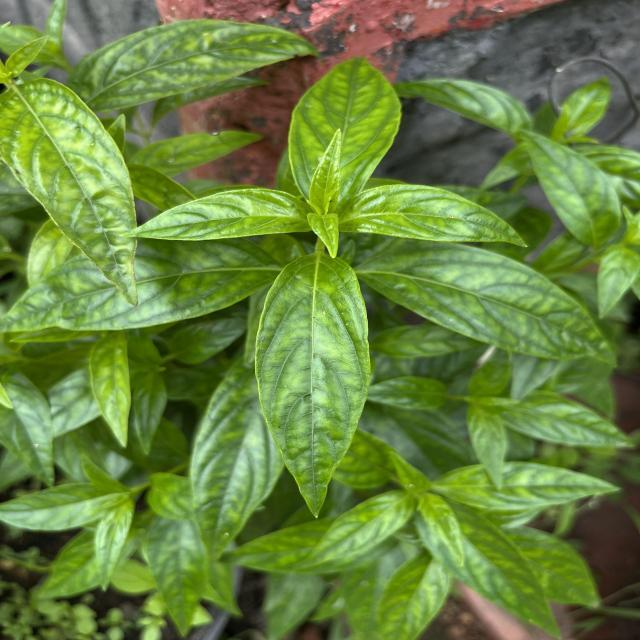Andrographis paniculata: (360, 238, 620, 368), (0, 73, 141, 310), (254, 249, 372, 523), (70, 17, 318, 112), (186, 353, 286, 561), (420, 500, 566, 640), (287, 55, 405, 205), (343, 182, 532, 250), (520, 128, 624, 249), (120, 186, 310, 242), (298, 488, 416, 572), (439, 460, 624, 512), (396, 77, 530, 138), (144, 512, 208, 638), (501, 395, 638, 448), (0, 369, 58, 490), (85, 328, 134, 452), (0, 481, 108, 531)
